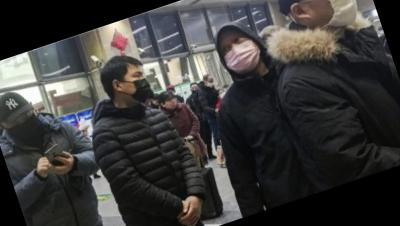with_mask: (218, 31, 267, 80), (4, 110, 44, 147), (119, 68, 156, 105), (204, 74, 217, 90), (190, 84, 202, 95), (217, 88, 228, 100)
without_mask: (164, 96, 180, 113)
